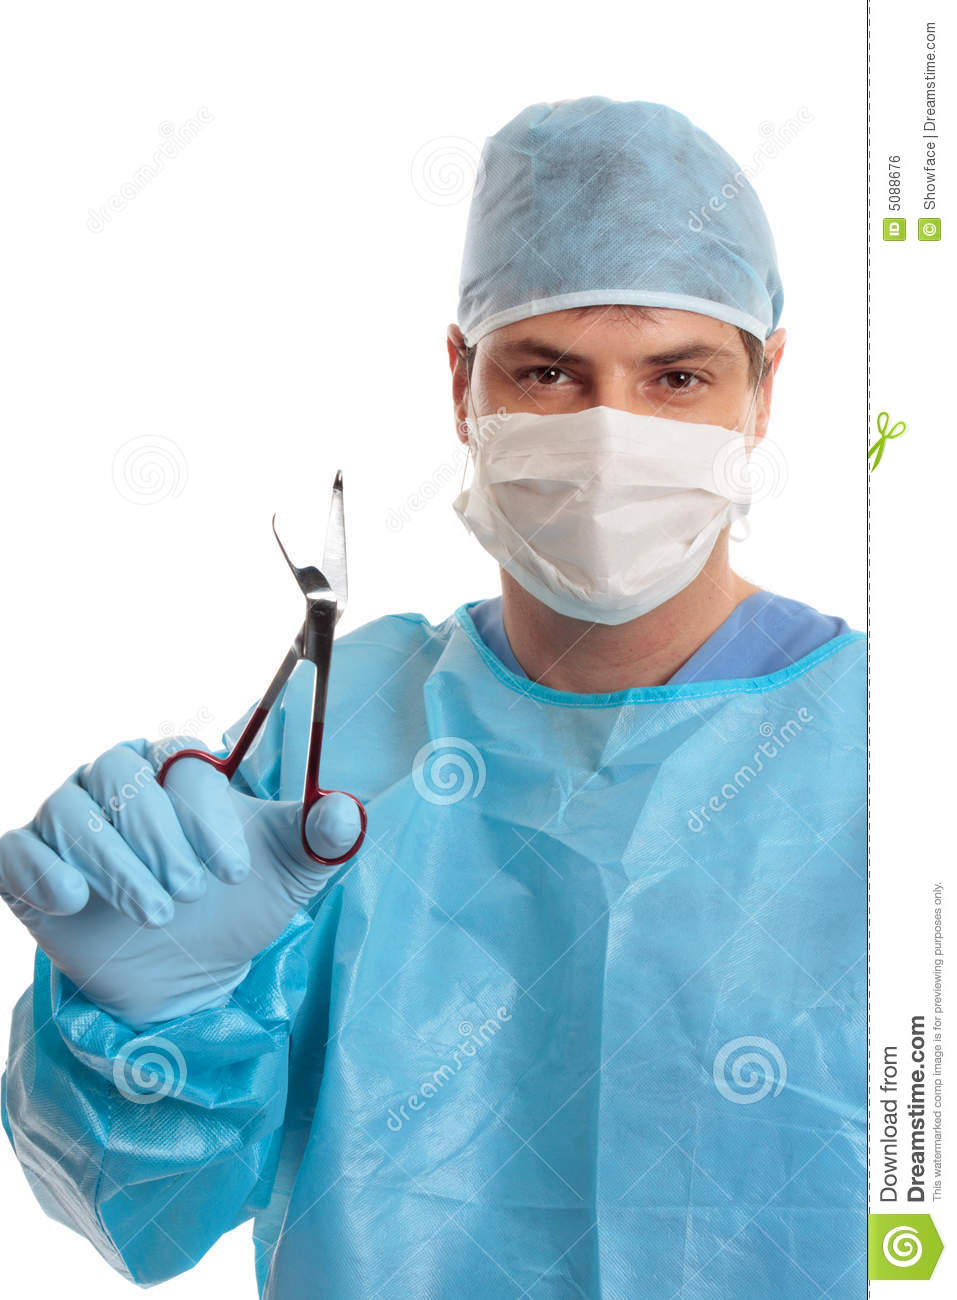mask: (446, 395, 774, 643)
